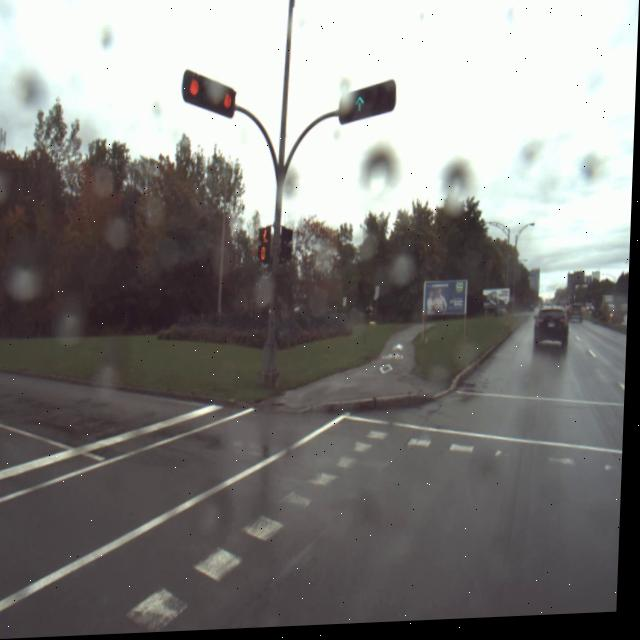car: (184, 72, 238, 121), (534, 311, 571, 358), (258, 227, 275, 268), (603, 308, 627, 329), (570, 308, 587, 331), (587, 308, 597, 319)
trafficLight-Green: (347, 89, 372, 126)
